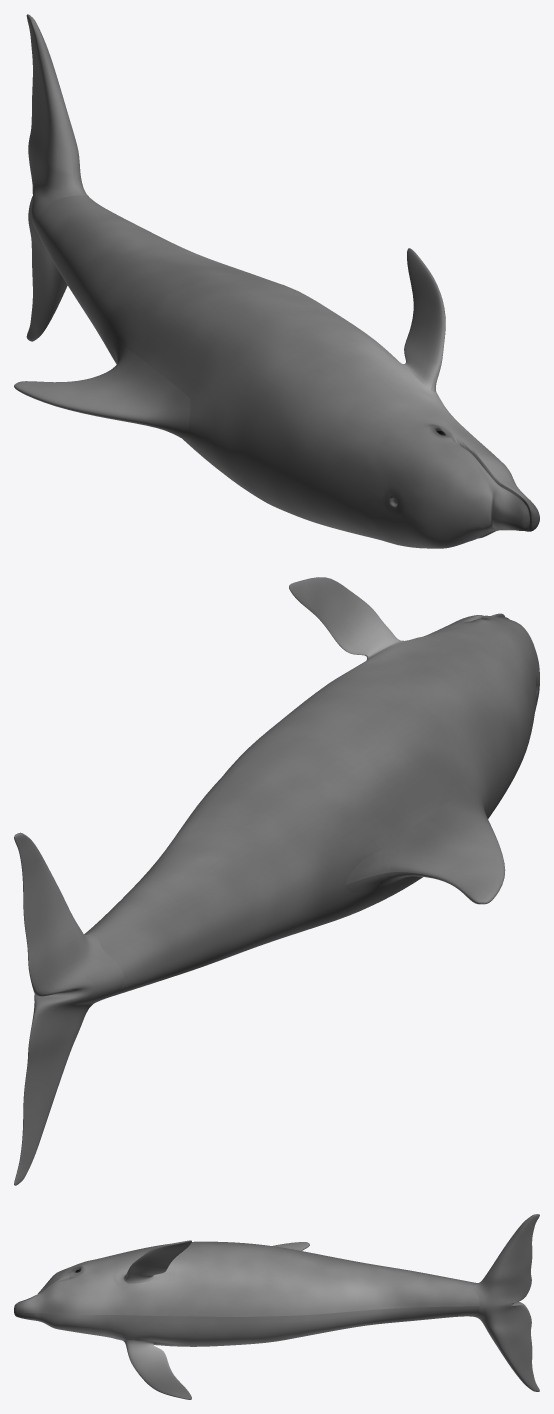
Rendered from dolphin.glb.
3 renders of one model, top to bottom at view 1: azimuth 30°, elevation 25°; view 2: azimuth 150°, elevation 25°; view 3: azimuth 270°, elevation 25°, orthographic. The views are drawn at different scales.
Parts seen in each view (by area): view 1: dolphin; view 2: dolphin; view 3: dolphin.
Part boxes in pixels (<box>): dolphin: <box>14,14,539,548</box>; dolphin: <box>14,577,539,1185</box>; dolphin: <box>14,1214,539,1399</box>.
Bounding box in the file's own units: 13.16 × 14.01 × 37.55.
1 material, 1 textured.
